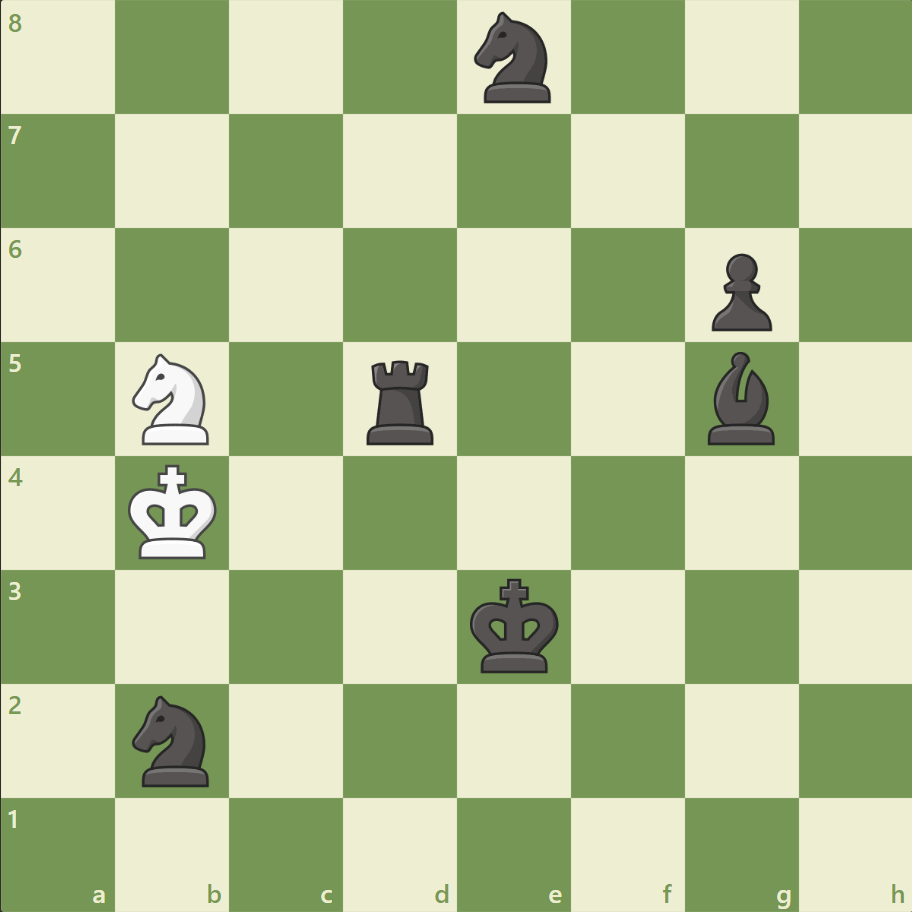K: (124, 458, 224, 566)
N: (124, 348, 222, 450)
b: (698, 347, 782, 449)
k: (465, 571, 565, 679)
n: (124, 688, 222, 791), (465, 7, 562, 110)
p: (701, 246, 776, 337)
r: (360, 352, 442, 449)
